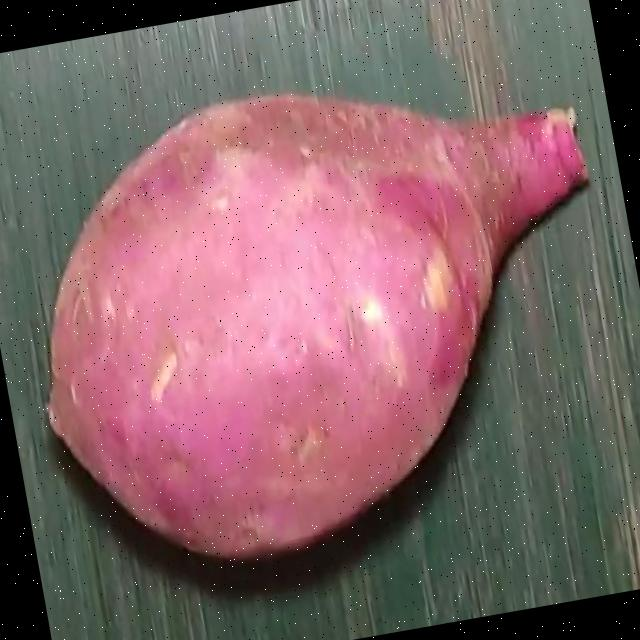Sweet Potato: (46, 92, 590, 562)
